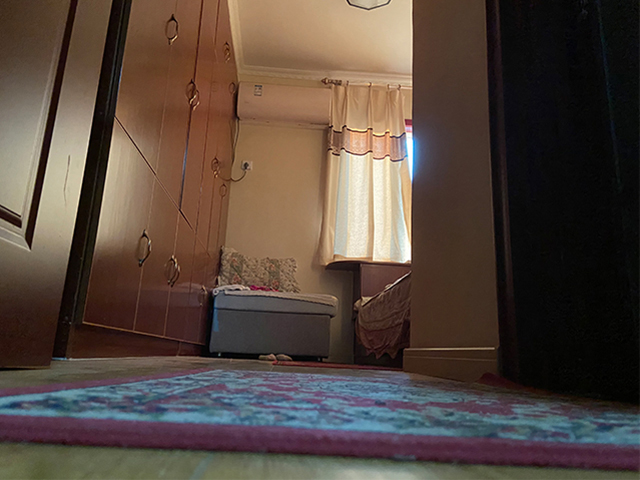bed: (351, 260, 414, 369)
cabinet: (60, 1, 240, 360)
carpet: (1, 367, 640, 473), (271, 360, 403, 372)
curtain: (318, 75, 410, 264)
stool: (207, 286, 338, 361)
